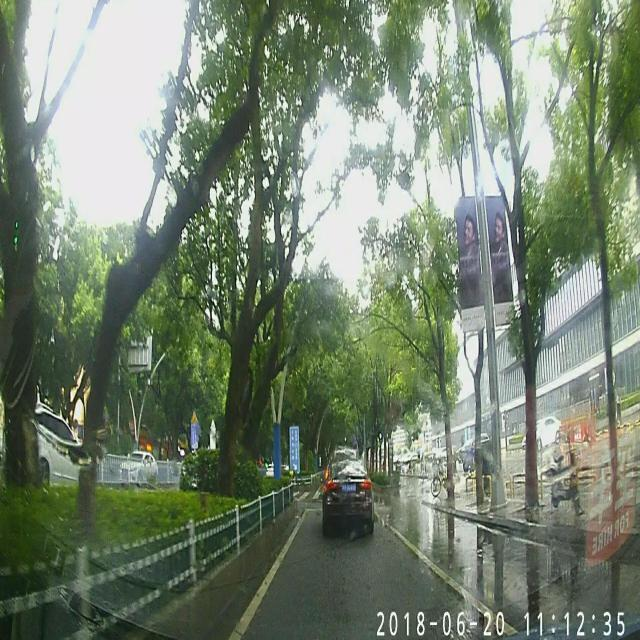car: (33, 402, 91, 485), (322, 455, 374, 533), (522, 414, 564, 450), (120, 449, 158, 482), (266, 463, 274, 476)
